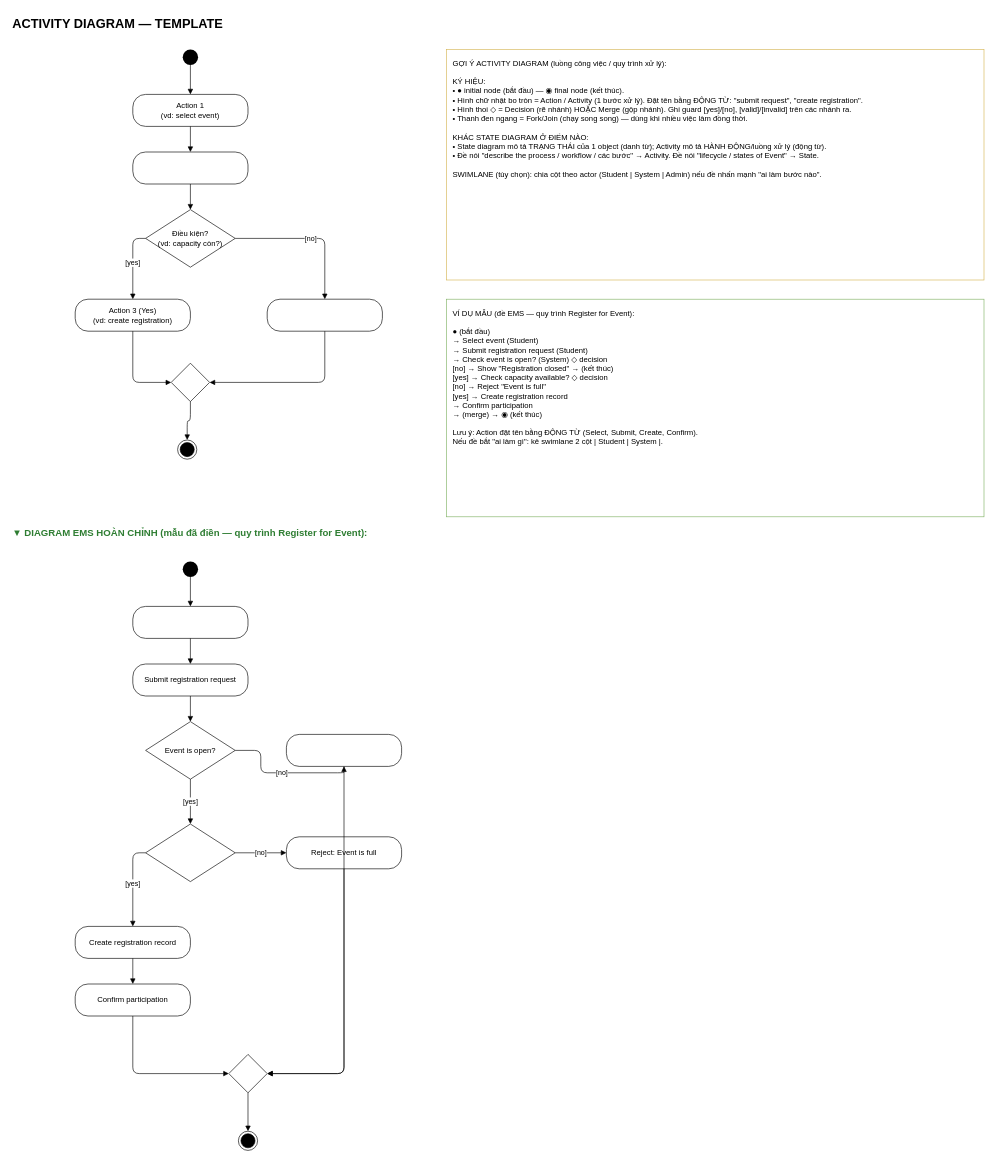
The diagram is 995 pixels wide and 1162 high, and some of its shapes have lost their labels. The centre of each missing label's shape, as x and y in pixels:
"Action 2 (vd: submit request)" goes at pixel 190 167.
"Action 4 (No) (vd: reject)" goes at pixel 324 315.
"Capacity available?" goes at pixel 190 852.
"Select event" goes at pixel 190 622.
"Show: Registration closed" goes at pixel 344 750.
